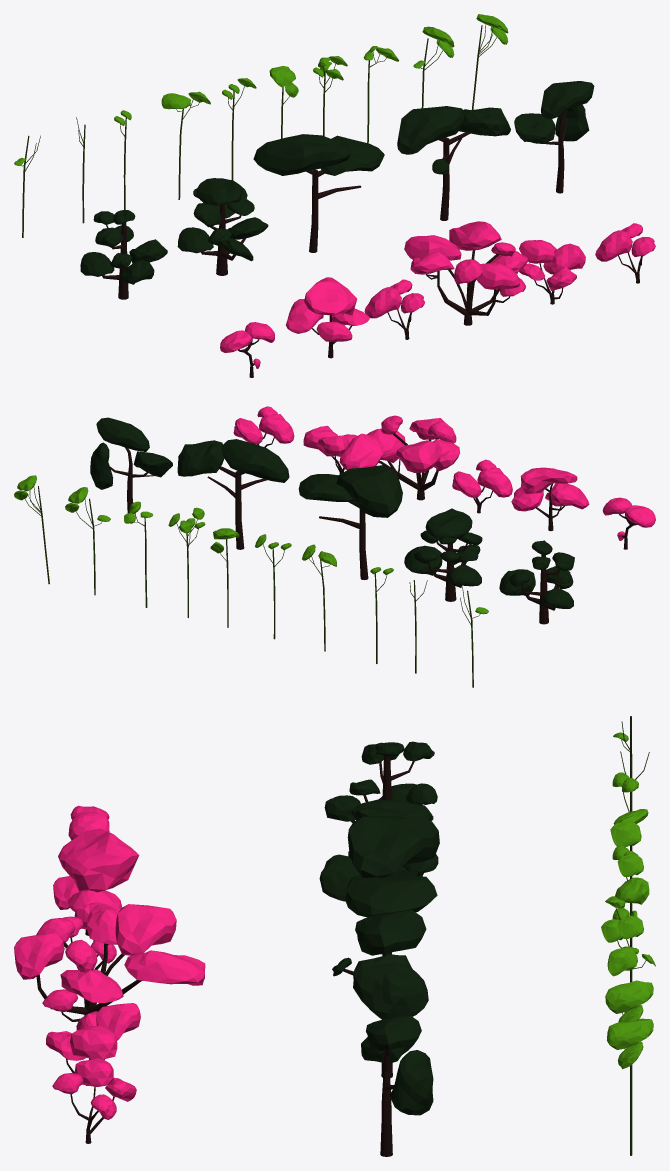
File: trees_type2_coll.FBX
3 renders of one model, top to bottom at view 1: azimuth 30°, elevation 25°; view 2: azimuth 150°, elevation 25°; view 3: azimuth 270°, elevation 25°, orthographic. The views are drawn at different scales.
Parts seen in each view (by area): view 1: Object084, Object087, Object058, Object102, Object085, Object088, Object060, Object083, Object100, Object064, GeoSphere016, Object065 (+15 smaller); view 2: Object084, Object087, Object088, Object060, Object102, Object085, Object083, Object064, Object058, GeoSphere016, Object101, Object059 (+18 smaller); view 3: Object084, Object088, Object058, Object085, Object064, Object087, Object101, Object060, Object065, Object102, Object062, Object069 (+15 smaller).
Part boxes in pixels (x1,y1,x2,y2): Object084: [253, 134, 350, 175]; Object087: [397, 106, 465, 154]; Object058: [304, 277, 356, 315]; Object102: [541, 81, 594, 118]; Object085: [320, 135, 384, 175]; Object088: [459, 107, 510, 136]; Object060: [449, 221, 501, 250]; Object083: [196, 178, 247, 205]; Object100: [514, 113, 555, 143]; Object064: [404, 235, 461, 260]; GeoSphere016: [220, 322, 274, 368]; Object065: [476, 263, 520, 289]; Object084: [336, 465, 402, 517]; Object087: [221, 439, 289, 482]; Object088: [177, 440, 224, 476]; Object060: [339, 433, 383, 469]; Object102: [96, 417, 149, 451]; Object085: [298, 474, 354, 501]; Object083: [425, 508, 472, 539]; Object064: [395, 440, 438, 472]; Object058: [520, 467, 577, 493]; GeoSphere016: [602, 497, 655, 540]; Object101: [90, 442, 112, 489]; Object059: [550, 483, 589, 509]; Object084: [347, 816, 439, 877]; Object088: [353, 954, 428, 1019]; Object058: [58, 828, 139, 892]; Object085: [345, 873, 437, 917]; Object064: [115, 904, 176, 955]; Object087: [355, 910, 426, 955]; Object101: [389, 1050, 433, 1115]; Object060: [124, 950, 205, 985]; Object065: [14, 933, 64, 979]; Object102: [366, 1015, 421, 1051]; Object062: [60, 969, 123, 1002]; Object069: [70, 1026, 117, 1059].
Size of the model in its own units: 799 by 181 by 631.
